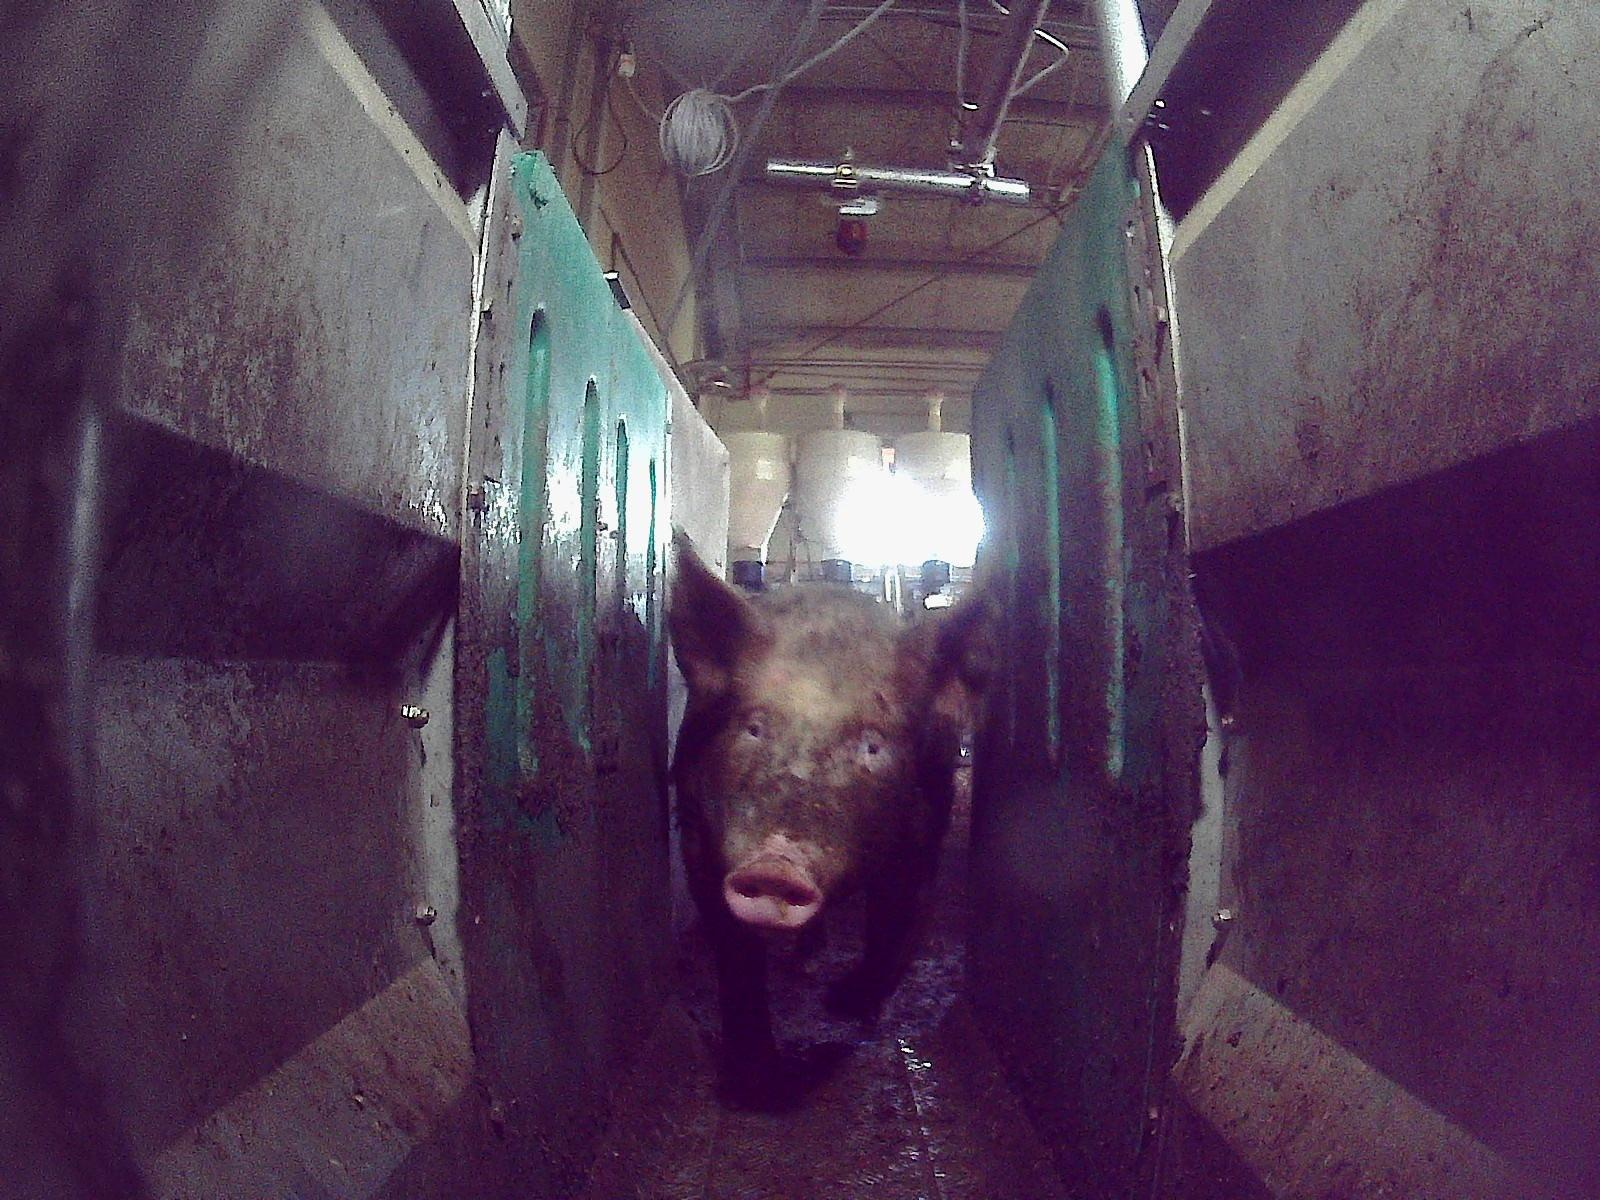Face: (700, 637, 913, 930)
